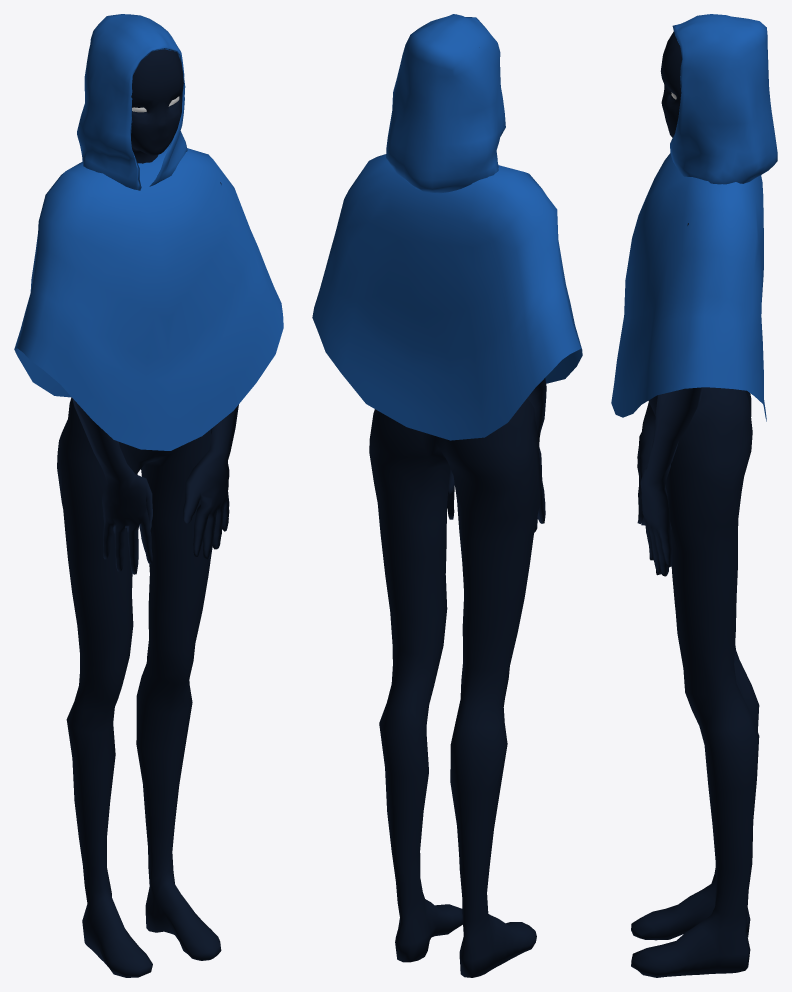
Rendered from SOLAR.fbx.
3 renders of one model, left to right at view 1: azimuth 30°, elevation 25°; view 2: azimuth 150°, elevation 25°; view 3: azimuth 270°, elevation 25°, orthographic. The views are drawn at different scales.
Visible parts, largest first — view 1: Solar_chara_v4, poncho_final, hood_final; view 2: Solar_chara_v4, poncho_final, hood_final; view 3: Solar_chara_v4, poncho_final, hood_final.
Part boxes in pixels (x1,y1,x2,y2): Solar_chara_v4: (57, 49, 238, 977); poncho_final: (14, 143, 283, 450); hood_final: (77, 14, 187, 190); Solar_chara_v4: (369, 378, 546, 977); poncho_final: (312, 154, 582, 440); hood_final: (386, 14, 505, 193); Solar_chara_v4: (631, 31, 759, 977); poncho_final: (611, 153, 766, 421); hood_final: (670, 14, 777, 184).
Bounding box in the file's own units: 49.15 × 174 × 28.06.
